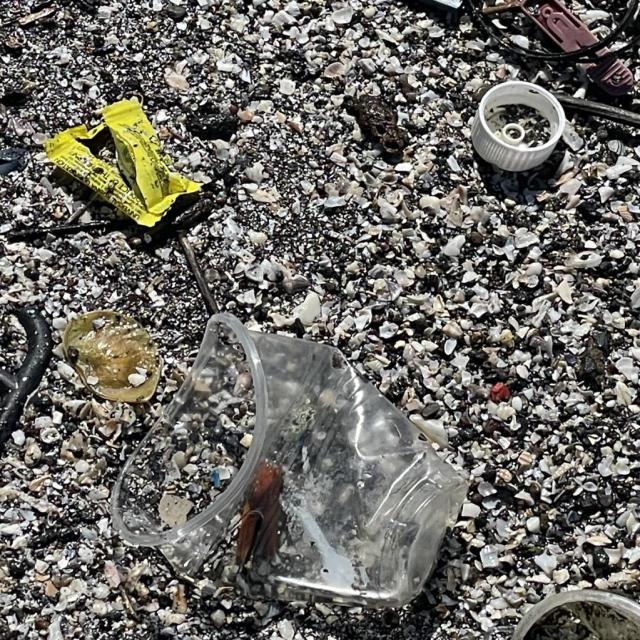litter: (109, 305, 471, 607), (45, 100, 205, 230), (470, 80, 568, 174), (504, 585, 638, 640)
